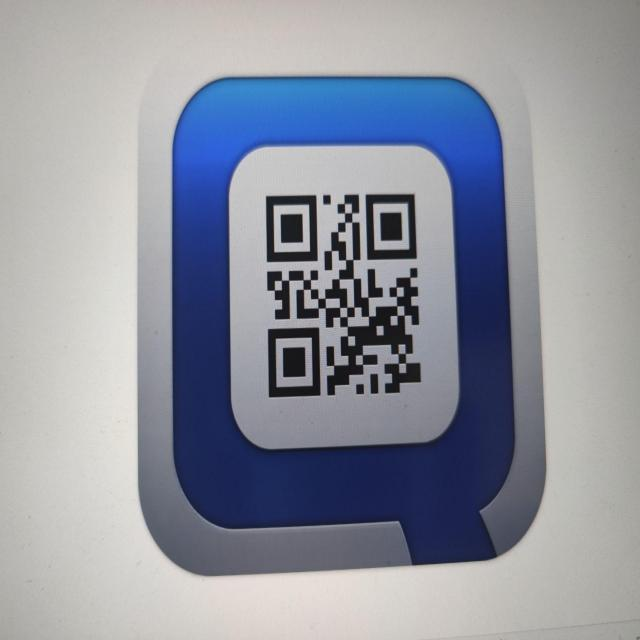qr_code: (265, 193, 421, 398)
